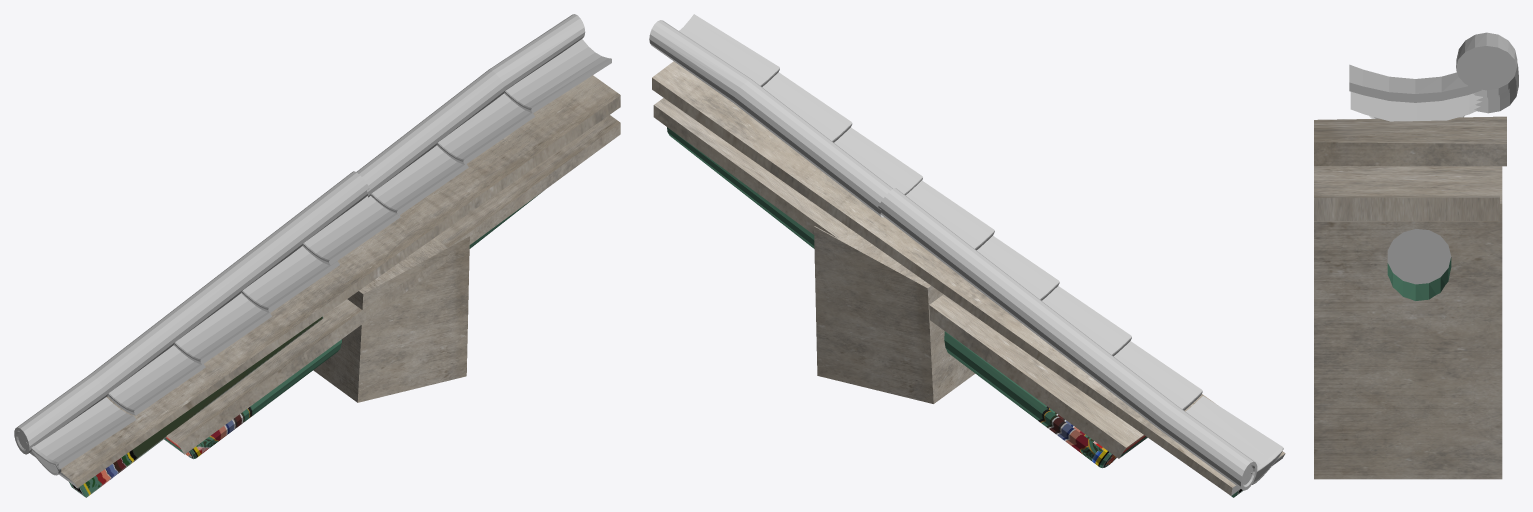
The model's file is SM_Roof_27.fbx.
The picture shows the model from 3 angles, left to right: view 1: azimuth 30°, elevation 25°; view 2: azimuth 150°, elevation 25°; view 3: azimuth 270°, elevation 25°; orthographic projection. The views are drawn at different scales.
Visible parts, largest first — view 1: SM_Roof_27; view 2: SM_Roof_27; view 3: SM_Roof_27.
Part boxes in pixels (x1,y1,x2,y2): SM_Roof_27: (14,14,620,497); SM_Roof_27: (649,14,1285,497); SM_Roof_27: (1314,32,1518,479).
Bounding box in the file's own units: 538 × 85.69 × 306.
